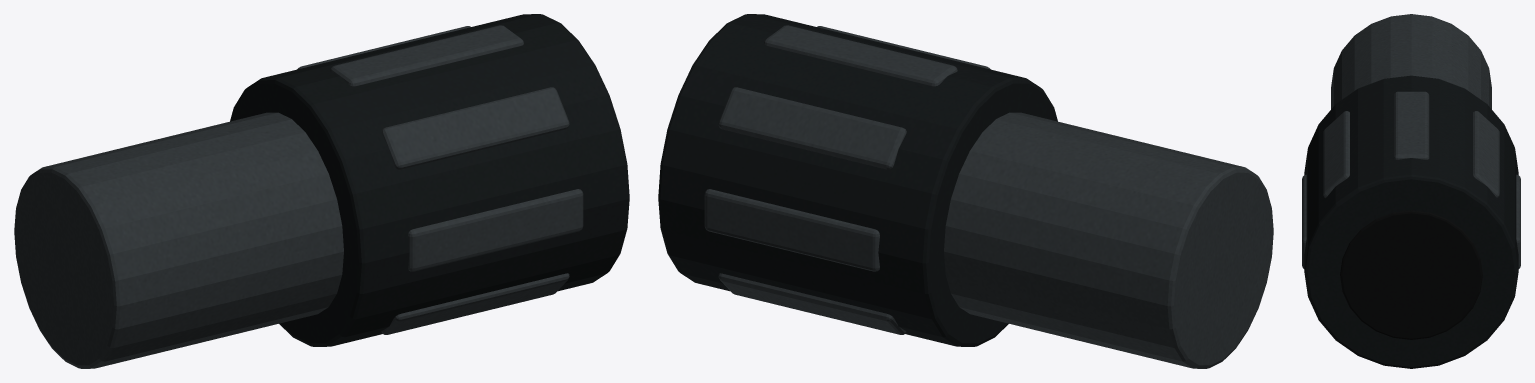
Rendered from kite01.muzzle.glb.
The picture shows the model from 3 angles, left to right: view 1: azimuth 30°, elevation 25°; view 2: azimuth 150°, elevation 25°; view 3: azimuth 270°, elevation 25°; orthographic projection. The views are drawn at different scales.
Visible parts, largest first — view 1: VIS_kite01_muzzle; view 2: VIS_kite01_muzzle; view 3: VIS_kite01_muzzle.
Part boxes in pixels (bbox=[...]): VIS_kite01_muzzle: bbox=[14, 14, 629, 368]; VIS_kite01_muzzle: bbox=[658, 14, 1273, 368]; VIS_kite01_muzzle: bbox=[1302, 14, 1520, 368].
Bounding box in the file's own units: 0.101 × 0.049 × 0.049.
3 materials, 3 textured.
